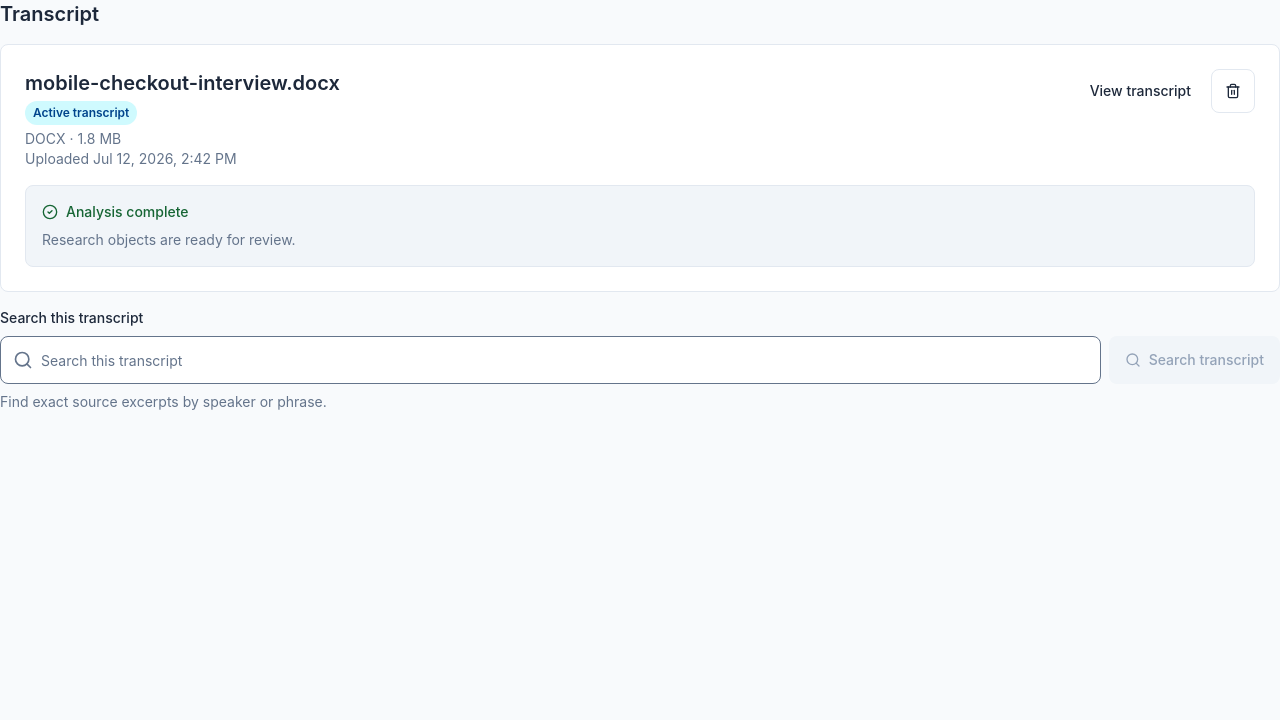
Test: Transcript lifecycle contract › prevents a normal second upload and opens consequence-aware deletion
Click the button named "Delete transcript" at point(1233, 91), box [1211,69,1255,113]
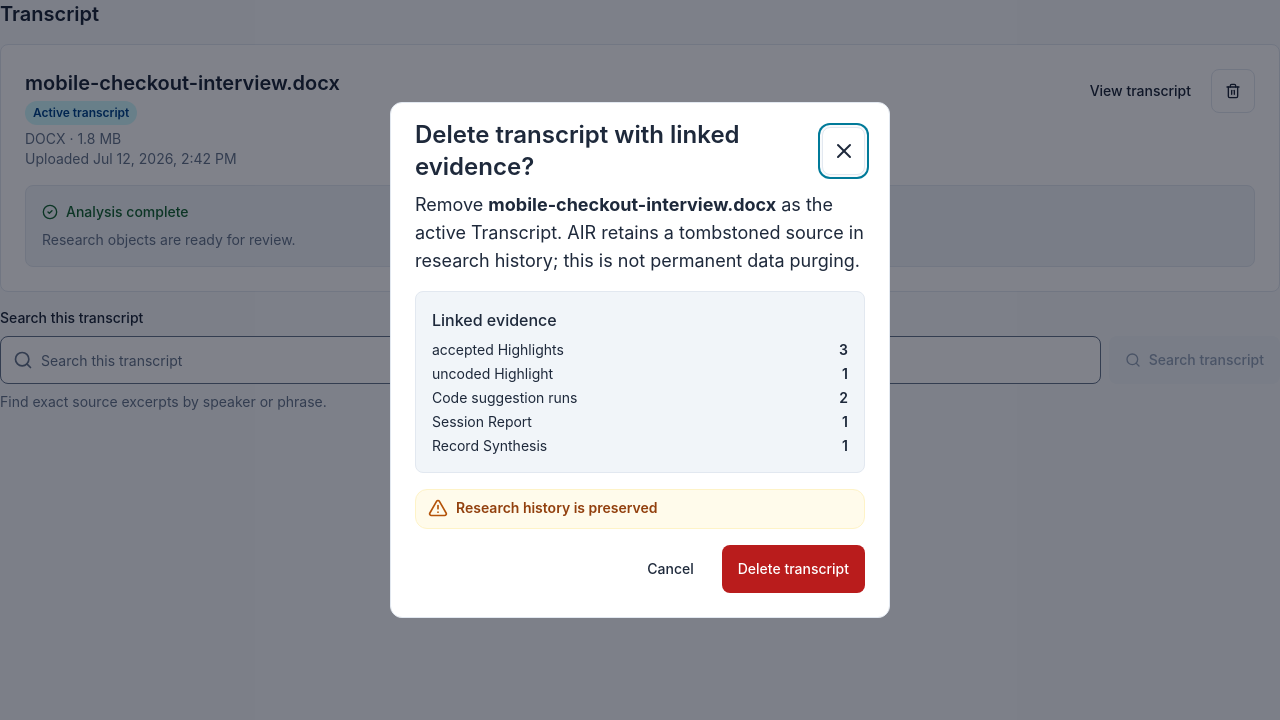
Now the dialog "Delete transcript with linked evidence?" is shown, box [390,102,890,618]
